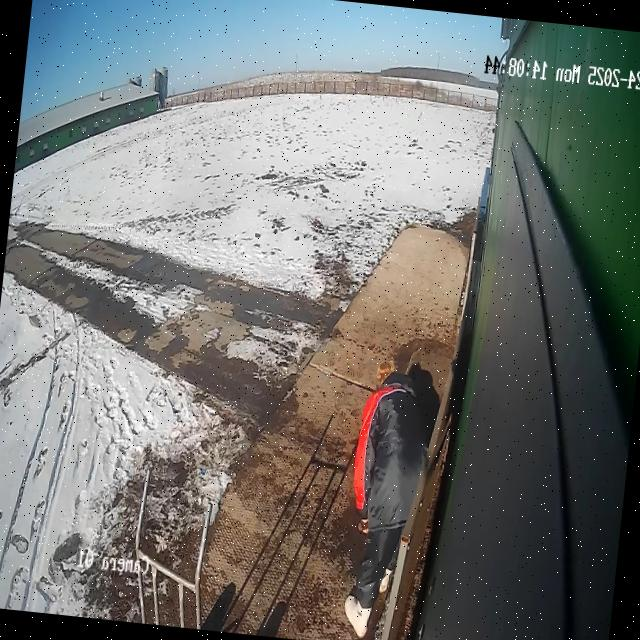Red uniform: (333, 361, 442, 640)
